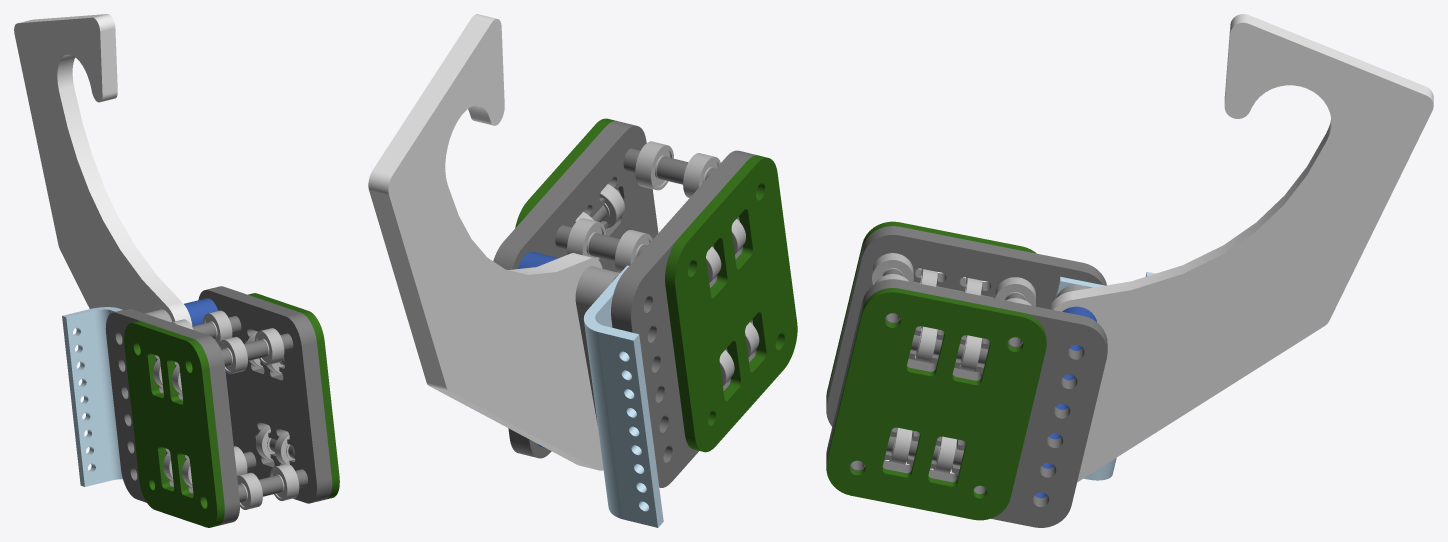
The picture shows the model from 3 angles, left to right: view 1: azimuth 30°, elevation 25°; view 2: azimuth 150°, elevation 25°; view 3: azimuth 270°, elevation 25°; orthographic projection. The views are drawn at different scales.
Visible parts, largest first — view 1: Part 8, Part 1 (×2), Part 5 (×2), Part 9, .1875" Round ID .5" OD Radial Bearing (217-3246) (×5), Part 4 (×3), .25" Round ID .5" OD Radial Bearing (217-3489) (×2), Part 7; view 2: Part 8, Part 5 (×2), Part 1 (×2), Part 9, .1875" Round ID .5" OD Radial Bearing (217-3246) (×4), Part 4 (×2), Part 6, .25" Round ID .5" OD Radial Bearing (217-3489); view 3: Part 8, Part 5 (×2), Part 1 (×2), .1875" Round ID .5" OD Radial Bearing (217-3246) (×2), Part 9.
Part boxes in pixels (x1,y1,x2,y2): Part 8: [14, 14, 192, 325]; Part 1 (×2): [105, 286, 332, 525]; Part 5 (×2): [124, 293, 339, 527]; Part 9: [62, 307, 122, 486]; .1875" Round ID .5" OD Radial Bearing (217-3246) (×5): [203, 310, 299, 509]; Part 4 (×3): [192, 316, 308, 502]; .25" Round ID .5" OD Radial Bearing (217-3489) (×2): [256, 425, 294, 465]; Part 7: [184, 298, 228, 400]; Part 8: [368, 14, 603, 470]; Part 5 (×2): [515, 118, 797, 452]; Part 1 (×2): [493, 121, 756, 487]; Part 9: [583, 265, 663, 527]; .1875" Round ID .5" OD Radial Bearing (217-3246) (×4): [567, 141, 720, 272]; Part 4 (×2): [555, 148, 714, 261]; Part 6: [575, 266, 619, 424]; .25" Round ID .5" OD Radial Bearing (217-3489): [599, 184, 624, 228]; Part 8: [1049, 14, 1433, 482]; Part 5 (×2): [826, 221, 1046, 520]; Part 1 (×2): [826, 226, 1107, 527]; .1875" Round ID .5" OD Radial Bearing (217-3246) (×2): [872, 253, 1035, 306]; Part 9: [1055, 272, 1155, 480].
Bounding box in the file's own units: 0.0574 × 0.1629 × 0.1853.
